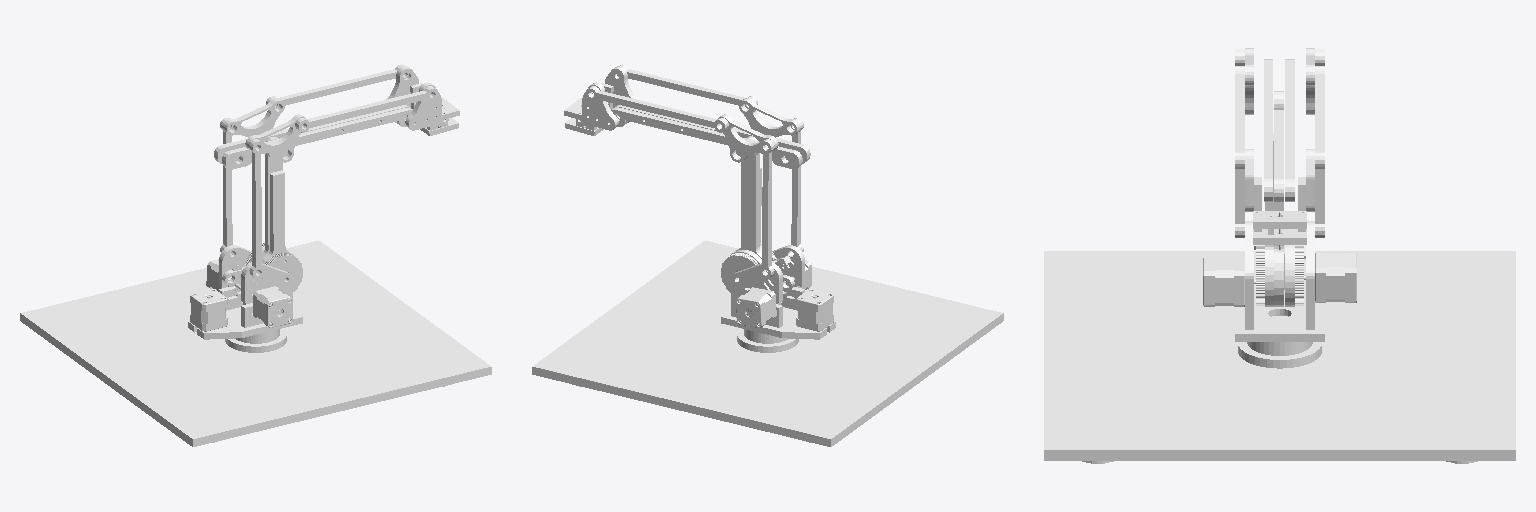
URDF robot description (warm_model):
<robot
  name="warm_model">
  <link
    name="base_link">
    <inertial>
      <origin
        xyz="2.63677968348475E-16 -1.2490009027033E-16 0.000438743376235284"
        rpy="0 0 0" />
      <mass
        value="0.568507830781543" />
      <inertia
        ixx="1.61047681006272E-05"
        ixy="1.19603712272453E-32"
        ixz="-1.97900613397195E-18"
        iyy="1.61047681006272E-05"
        iyz="7.13862471960469E-19"
        izz="3.91035413623175E-30" />
    </inertial>
    <visual>
      <origin
        xyz="0 0 0"
        rpy="0 0 0" />
      <geometry>
        <mesh
		filename="package://warm_description/meshes/base_link.STL" />
      </geometry>
      <material
        name="">
        <color
          rgba="1 1 1 1" />
      </material>
    </visual>
    <collision>
      <origin
        xyz="0 0 0"
        rpy="0 0 0" />
      <geometry>
        <mesh
          filename="package://warm_description/meshes/base_link.STL" />
      </geometry>
    </collision>
  </link>
  <link
    name="shoulder_link">
    <inertial>
      <origin
        xyz="0.0282001916785199 0.00544413919479672 0.0380190294969099"
        rpy="0 0 0" />
      <mass
        value="1.79741106100345" />
      <inertia
        ixx="0.00441062391217284"
        ixy="0.000291816593951301"
        ixz="0.000344074824993903"
        iyy="0.00204657894512575"
        iyz="3.49985639960612E-05"
        izz="0.00610797249781464" />
    </inertial>
    <visual>
      <origin
        xyz="0 0 0"
        rpy="0 0 0" />
      <geometry>
        <mesh
          filename="package://warm_description/meshes/shoulder_link.STL" />
      </geometry>
      <material
        name="">
        <color
          rgba="1 1 1 1" />
      </material>
    </visual>
    <collision>
      <origin
        xyz="0 0 0"
        rpy="0 0 0" />
      <geometry>
        <mesh
          filename="package://warm_description/meshes/shoulder_link.STL" />
      </geometry>
    </collision>
  </link>
  <joint
    name="joint_1"
    type="continuous">
    <origin
      xyz="-0.00441252043298147 0.00544284112182545 0.0485376816415833"
      rpy="2.36658271566304E-30 1.26531078261971E-16 3.14159265358979" />
    <parent
      link="base_link" />
    <child
      link="shoulder_link" />
    <axis
      xyz="0 0 1" />

  </joint>
  <link
    name="arm_link">
    <inertial>
      <origin
        xyz="-3.23769957774785E-06 0.0471051846740893 -0.0324432685236045"
        rpy="0 0 0" />
      <mass
        value="0.0254633346182841" />
      <inertia
        ixx="1.25157074221025E-05"
        ixy="-1.56921474872636E-09"
        ixz="5.3008167697621E-10"
        iyy="1.28188339426665E-06"
        iyz="3.79479252317543E-06"
        izz="1.12338244662324E-05" />
    </inertial>
    <visual>
      <origin
        xyz="0 0 0"
        rpy="0 0 0" />
      <geometry>
        <mesh
          filename="package://warm_description/meshes/arm_link.STL" />
      </geometry>
      <material
        name="">
        <color
          rgba="1 1 1 1" />
      </material>
    </visual>
    <collision>
      <origin
        xyz="0 0 0"
        rpy="0 0 0" />
      <geometry>
        <mesh
          filename="package://warm_description/meshes/arm_link.STL" />
      </geometry>
    </collision>
  </link>
  <joint
    name="joint_2"
    type="revolute">
    <origin
      xyz="-0.0348159923703428 0.0462928411218232 0.0682974228654307"
      rpy="1.57079632679488 3.21165371746374E-14 -3.14159265358979" />
    <parent
      link="shoulder_link" />
    <child
      link="arm_link" />
    <axis
      xyz="0 0 -1" />
   <limit effort="300" lower="-1" upper="0.8" velocity="1"/>
  </joint>
  <link
    name="triangle_link">
    <inertial>
      <origin
        xyz="-0.0098309962470092 0.0229736662249133 -0.0408500000000019"
        rpy="0 0 0" />
      <mass
        value="0.00657871823688291" />
      <inertia
        ixx="6.88477665605832E-06"
        ixy="-1.57726607066063E-20"
        ixz="5.03749267461247E-13"
        iyy="6.88477665605835E-06"
        iyz="2.15566062837827E-13"
        izz="4.36100610154889E-20" />
    </inertial>
    <visual>
      <origin
        xyz="0 0 0"
        rpy="0 0 0" />
      <geometry>
        <mesh
          filename="package://warm_description/meshes/triangle_link.STL" />
      </geometry>
      <material
        name="">
        <color
          rgba="1 1 1 1" />
      </material>
    </visual>
    <collision>
      <origin
        xyz="0 0 0"
        rpy="0 0 0" />
      <geometry>
        <mesh
          filename="package://warm_description/meshes/triangle_link.STL" />
      </geometry>
    </collision>
  </link>


  <joint
    name="joint_3"
    type="revolute">
    <origin
      xyz="-0.0348148492303428 -0.00180715887817685 0.0682974337952276"
      rpy="1.57079632679488 3.21187456915242E-14 -3.14159265358979" />
    <parent
      link="shoulder_link" />
    <child
      link="wheel_joint3_link" />
    <axis
      xyz="0 0 -1" />
	<limit effort="300" lower="0" upper="1" velocity="1"/>
  </joint>



  <joint
    name="joint_triangle"
    type="continuous">
    <origin
      xyz="0 0.2 0"
      rpy="-2.2985716467473E-17 3.60822483002508E-16 3.20125831334145E-14" />
    <parent
      link="arm_link" />
    <child
      link="triangle_link" />
    <axis
      xyz="0 0 -1" />
<mimic joint="joint_2" multiplier="-1.0" offset="0.0" />
  </joint>
  <link
    name="bip_up_link">
    <inertial>
      <origin
        xyz="0.107349999999985 2.21208102946235E-08 -0.0423500000000018"
        rpy="0 0 0" />
      <mass
        value="0.00777564504195493" />
      <inertia
        ixx="1.39457943347596E-05"
        ixy="2.5578757073893E-35"
        ixz="1.79203500220456E-20"
        iyy="1.39457943347596E-05"
        iyz="-1.52949319584692E-20"
        izz="1.6311679166719E-23" />
    </inertial>
    <visual>
      <origin
        xyz="0 0 0"
        rpy="0 0 0" />
      <geometry>
        <mesh
          filename="package://warm_description/meshes/bip_up_link.STL" />
      </geometry>
      <material
        name="">
        <color
          rgba="1 1 1 1" />
      </material>
    </visual>
    <collision>
      <origin
        xyz="0 0 0"
        rpy="0 0 0" />
      <geometry>
        <mesh
          filename="package://warm_description/meshes/bip_up_link.STL" />
      </geometry>
    </collision>
  </link>
  <joint
    name="joint_bip_up"
    type="continuous">
    <origin
      xyz="0.0233973856952177 0.0441878076241449 0.00150000000000007"
      rpy="5.49678260828423E-17 -1.11022302462546E-16 -2.06062321885303E-07" />
    <parent
      link="triangle_link" />
    <child
      link="bip_up_link" />
    <axis
      xyz="0 0 -1" />
<mimic joint="joint_3" multiplier="1.0" offset="0.0" />
  </joint>
  <link
    name="forearm_link">
    <inertial>
      <origin
        xyz="0.0753335277212423 0.00398365194247818 -0.0400000000000017"
        rpy="0 0 0" />
      <mass
        value="0.0200863347953575" />
      <inertia
        ixx="2.16300605420972E-06"
        ixy="-4.03046971310707E-07"
        ixz="6.78225550864431E-20"
        iyy="2.47830338644395E-05"
        iyz="-1.29820670754701E-20"
        izz="2.26343863530668E-05" />
    </inertial>
    <visual>
      <origin
        xyz="0 0 0"
        rpy="0 0 0" />
      <geometry>
        <mesh
          filename="package://warm_description/meshes/forearm_link.STL" />
      </geometry>
      <material
        name="">
        <color
          rgba="1 1 1 1" />
      </material>
    </visual>
    <collision>
      <origin
        xyz="0 0 0"
        rpy="0 0 0" />
      <geometry>
        <mesh
          filename="package://warm_description/meshes/forearm_link.STL" />
      </geometry>
    </collision>
  </link>
  <joint
    name="joint_forearm"
    type="continuous">
    <origin
      xyz="0 0 0"
      rpy="1.64711001566526E-25 -4.10693792315582E-21 0" />
    <parent
      link="triangle_link" />
    <child
      link="forearm_link" />
    <axis
      xyz="0 0 -1" />
<mimic joint="joint_3" multiplier="1.0" offset="0.0" /> 
  </joint>
  <link
    name="ee_link">
    <inertial>
      <origin
        xyz="0.0212319309123046 -0.0161270448406347 0.000889344383365735"
        rpy="0 0 0" />
      <mass
        value="0.00772486120122907" />
      <inertia
        ixx="8.08424105646329E-06"
        ixy="-2.80738191940101E-20"
        ixz="-4.15174760182464E-13"
        iyy="8.08424105646328E-06"
        iyz="-5.46650575756983E-13"
        izz="5.82897326146114E-20" />
    </inertial>
    <visual>
      <origin
        xyz="0 0 0"
        rpy="0 0 0" />
      <geometry>
        <mesh
          filename="package://warm_description/meshes/ee_link.STL" />
      </geometry>
      <material
        name="">
        <color
          rgba="1 1 1 1" />
      </material>
    </visual>
    <collision>
      <origin
        xyz="0 0 0"
        rpy="0 0 0" />
      <geometry>
        <mesh
          filename="package://warm_description/meshes/ee_link.STL" />
      </geometry>
    </collision>
  </link>
  <joint
    name="joint_ee"
    type="continuous">
    <origin
      xyz="0.2147 0 -0.0400000000000018"
      rpy="-3.14159265358979 -1.80411241501618E-16 -2.06062321884982E-07" />
    <parent
      link="forearm_link" />
    <child
      link="ee_link" />
    <axis
      xyz="0 0 1" />
<mimic joint="joint_3" multiplier="-1.0" offset="0.0" /> 
  </joint>
  <link
    name="bip_low_link">
    <inertial>
      <origin
        xyz="-2.8433860084498E-07 0.100000005464075 -0.04235"
        rpy="0 0 0" />
      <mass
        value="0.00730527473889493" />
      <inertia
        ixx="1.31021746128899E-05"
        ixy="1.13498185225961E-17"
        ixz="-8.79682264708401E-11"
        iyy="1.31021746134803E-05"
        iyz="1.69046609297699E-12"
        izz="5.9083830068206E-16" />
    </inertial>
    <visual>
      <origin
        xyz="0 0 0"
        rpy="0 0 0" />
      <geometry>
        <mesh
          filename="package://warm_description/meshes/bip_low_link.STL" />
      </geometry>
      <material
        name="">
        <color
          rgba="1 1 1 1" />
      </material>
    </visual>
    <collision>
      <origin
        xyz="0 0 0"
        rpy="0 0 0" />
      <geometry>
        <mesh
          filename="package://warm_description/meshes/bip_low_link.STL" />
      </geometry>
    </collision>
  </link>
  <joint
    name="joint_bip_low"
    type="continuous">
    <origin
      xyz="0.0182093825642707 0.0477928411218226 0.0963742747730726"
      rpy="1.57079632679488 3.21166955392916E-14 -3.14159265358979" />
    <parent
      link="shoulder_link" />
    <child
      link="bip_low_link" />
    <axis
      xyz="0 0 -1" />
<mimic joint="joint_2" multiplier="1.0" offset="0.0" />
  </joint>
  <link
    name="wheel_joint3_link">
    <inertial>
      <origin
        xyz="-0.00469089605888161 7.55122060958069E-06 -0.00854098483970626"
        rpy="0 0 0" />
      <mass
        value="0.0109151851364545" />
      <inertia
        ixx="0"
        ixy="0"
        ixz="0"
        iyy="0"
        iyz="0"
        izz="0" />
    </inertial>
    <visual>
      <origin
        xyz="0 0 0"
        rpy="0 0 0" />
      <geometry>
        <mesh
          filename="package://warm_description/meshes/wheel_joint3_link.STL" />
      </geometry>
      <material
        name="">
        <color
          rgba="1 1 1 1" />
      </material>
    </visual>
    <collision>
      <origin
        xyz="0 0 0"
        rpy="0 0 0" />
      <geometry>
        <mesh
          filename="package://warm_description/meshes/wheel_joint3_link.STL" />
      </geometry>
    </collision>
  </link>


<!--
  <link
    name="rod_link">
    <inertial>
      <origin
        xyz="5.71569996207777E-07 0.0999999999983664 1.73472347597681E-16"
        rpy="0 0 0" />
      <mass
        value="0.00365263736944747" />
      <inertia
        ixx="0"
        ixy="0"
        ixz="0"
        iyy="0"
        iyz="0"
        izz="0" />
    </inertial>
    <visual>
      <origin
        xyz="0 0 0"
        rpy="0 0 0" />
      <geometry>
        <mesh
          filename="package://bip_prova/meshes/rod_link.STL" />
      </geometry>
      <material
        name="">
        <color
          rgba="1 1 1 1" />
      </material>
    </visual>
    <collision>
      <origin
        xyz="0 0 0"
        rpy="0 0 0" />
      <geometry>
        <mesh
          filename="package://bip_prova/meshes/rod_link.STL" />
      </geometry>
    </collision>
  </link>
  <joint
    name="joint_tirante"
    type="continuous">
    <origin
      xyz="-0.0685000000000221 0 0.00809999999999808"
      rpy="1.24329734746202E-17 -6.93889390391024E-17 -9.48598781133975E-19" />
    <parent
      link="wheel_joint3_link" />
    <child
      link="rod_link" />
    <axis
      xyz="0 0 -1" />
  </joint>
  <link
    name="upper_fake_link">
    <inertial>
      <origin
        xyz="1.38777878078145E-17 0 -0.00579999999999999"
        rpy="0 0 0" />
      <mass
        value="0.00343061917772006" />
      <inertia
        ixx="1.15406029138502E-07"
        ixy="-1.41059322098675E-37"
        ixz="1.78935213895578E-22"
        iyy="1.15406029138502E-07"
        iyz="8.51258100706011E-23"
        izz="1.19465313298197E-25" />
    </inertial>
    <visual>
      <origin
        xyz="0 0 0"
        rpy="0 0 0" />
      <geometry>
        <mesh
          filename="package://bip_prova/meshes/upper_fake_link.STL" />
      </geometry>
      <material
        name="">
        <color
          rgba="0.776470588235294 0.756862745098039 0.737254901960784 1" />
      </material>
    </visual>
    <collision>
      <origin
        xyz="0 0 0"
        rpy="0 0 0" />
      <geometry>
        <mesh
          filename="package://bip_prova/meshes/upper_fake_link.STL" />
      </geometry>
    </collision>
  </link>
  <joint
    name="joint_upper_fake"
    type="revolute">
    <origin
      xyz="0 0.199999999996736 0.00579999999999999"
      rpy="-1.31993967688474E-17 2.77555756155988E-17 1.00707459178551E-18" />
    <parent
      link="rod_link" />
    <child
      link="upper_fake_link" />
    <axis
      xyz="0 0 -1" />
  </joint>
-->
</robot>

--- Facts derived from the render (not from the file) ---
The picture shows the robot from 3 angles, left to right: view 1: azimuth 30°, elevation 25°; view 2: azimuth 150°, elevation 25°; view 3: azimuth 270°, elevation 25°; orthographic projection.
Robot: warm_model — 9 links, 8 joints (2 revolute, 6 continuous); root link base_link; default pose: all joints at 0.
Links seen in each view (by area): view 1: base_link, shoulder_link, forearm_link, arm_link, bip_up_link, bip_low_link, ee_link, triangle_link; view 2: base_link, shoulder_link, forearm_link, bip_up_link, bip_low_link, ee_link, triangle_link, arm_link, wheel_joint3_link; view 3: base_link, shoulder_link, forearm_link, ee_link, arm_link, bip_up_link, bip_low_link, triangle_link, wheel_joint3_link.
Link boxes in pixels (x1=…): base_link: x1=20, y1=240, x2=491, y2=446; shoulder_link: x1=188, y1=245, x2=302, y2=339; forearm_link: x1=214, y1=105, x2=412, y2=169; arm_link: x1=262, y1=137, x2=302, y2=291; bip_up_link: x1=266, y1=64, x2=438, y2=132; bip_low_link: x1=220, y1=118, x2=264, y2=278; ee_link: x1=386, y1=66, x2=459, y2=135; triangle_link: x1=223, y1=98, x2=305, y2=162; base_link: x1=532, y1=240, x2=1003, y2=446; shoulder_link: x1=721, y1=245, x2=835, y2=339; forearm_link: x1=611, y1=105, x2=810, y2=168; bip_up_link: x1=585, y1=64, x2=757, y2=132; bip_low_link: x1=759, y1=118, x2=803, y2=278; ee_link: x1=564, y1=66, x2=637, y2=135; triangle_link: x1=718, y1=98, x2=800, y2=162; arm_link: x1=736, y1=136, x2=776, y2=262; wheel_joint3_link: x1=721, y1=250, x2=794, y2=292; base_link: x1=1044, y1=251, x2=1515, y2=463; shoulder_link: x1=1203, y1=221, x2=1356, y2=341; forearm_link: x1=1264, y1=59, x2=1294, y2=201; ee_link: x1=1245, y1=149, x2=1314, y2=249; arm_link: x1=1256, y1=91, x2=1283, y2=306; bip_up_link: x1=1235, y1=66, x2=1324, y2=168; bip_low_link: x1=1235, y1=49, x2=1324, y2=237; triangle_link: x1=1245, y1=48, x2=1314, y2=114; wheel_joint3_link: x1=1285, y1=245, x2=1303, y2=306.
Bounding box of the posed robot: 0.5755 × 0.5 × 0.391 m (x, y, z).
9 mesh visuals loaded from 9 distinct referenced files (9 binary STL).
